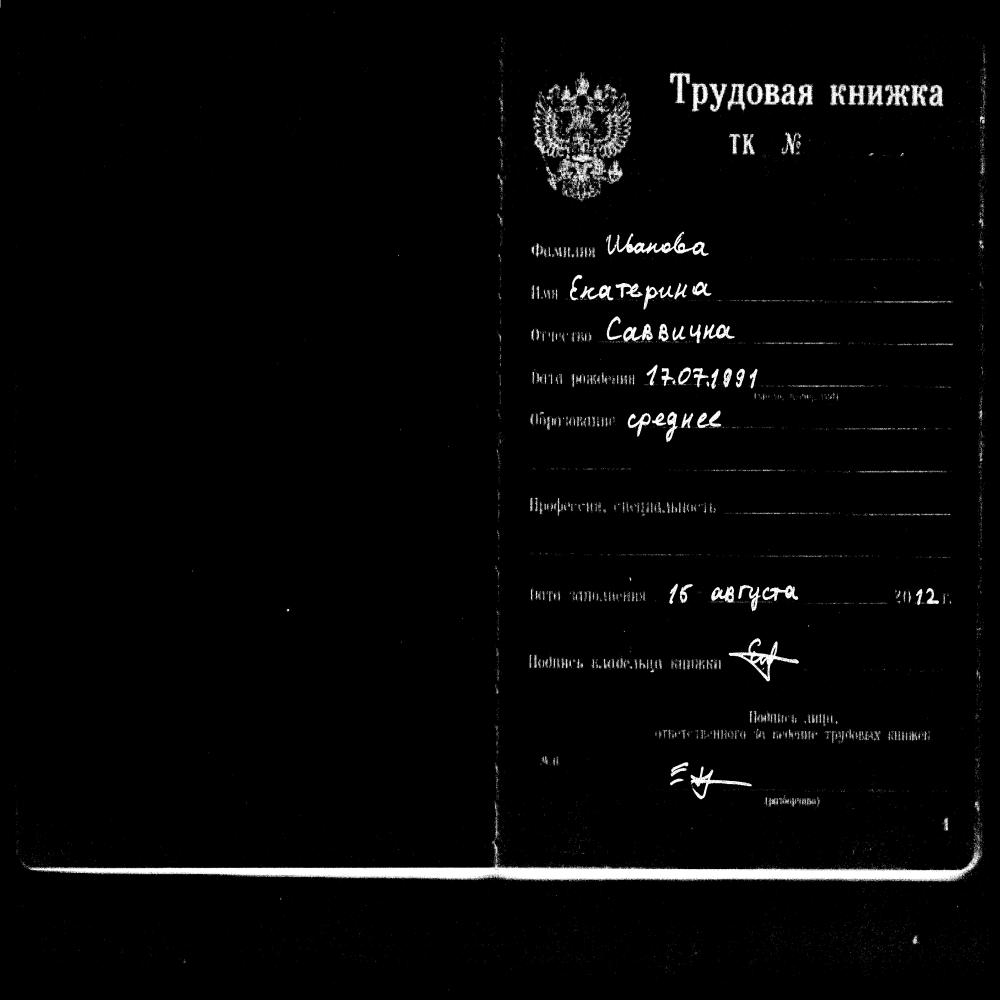rus: (673, 65, 950, 115), (565, 272, 715, 310), (647, 348, 763, 393), (604, 311, 743, 345), (600, 230, 720, 266), (712, 576, 806, 615), (628, 398, 722, 434), (668, 571, 695, 608)
